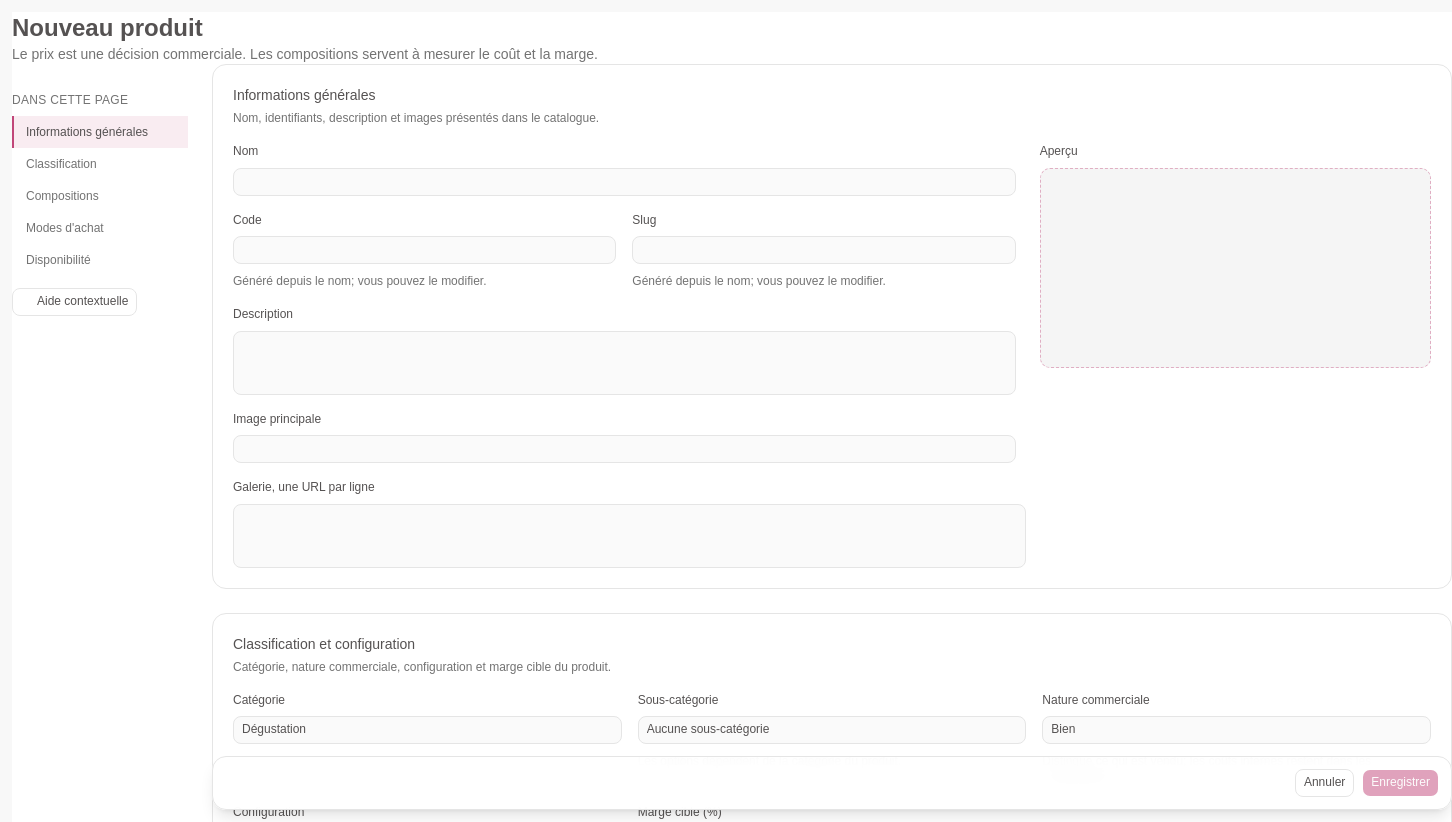
CatalogProductEditor › generates code and slug from the name until they are customized
Type "Pâté déjeuner & café" into the 1st field at (624, 182), box [233,168,1016,196]
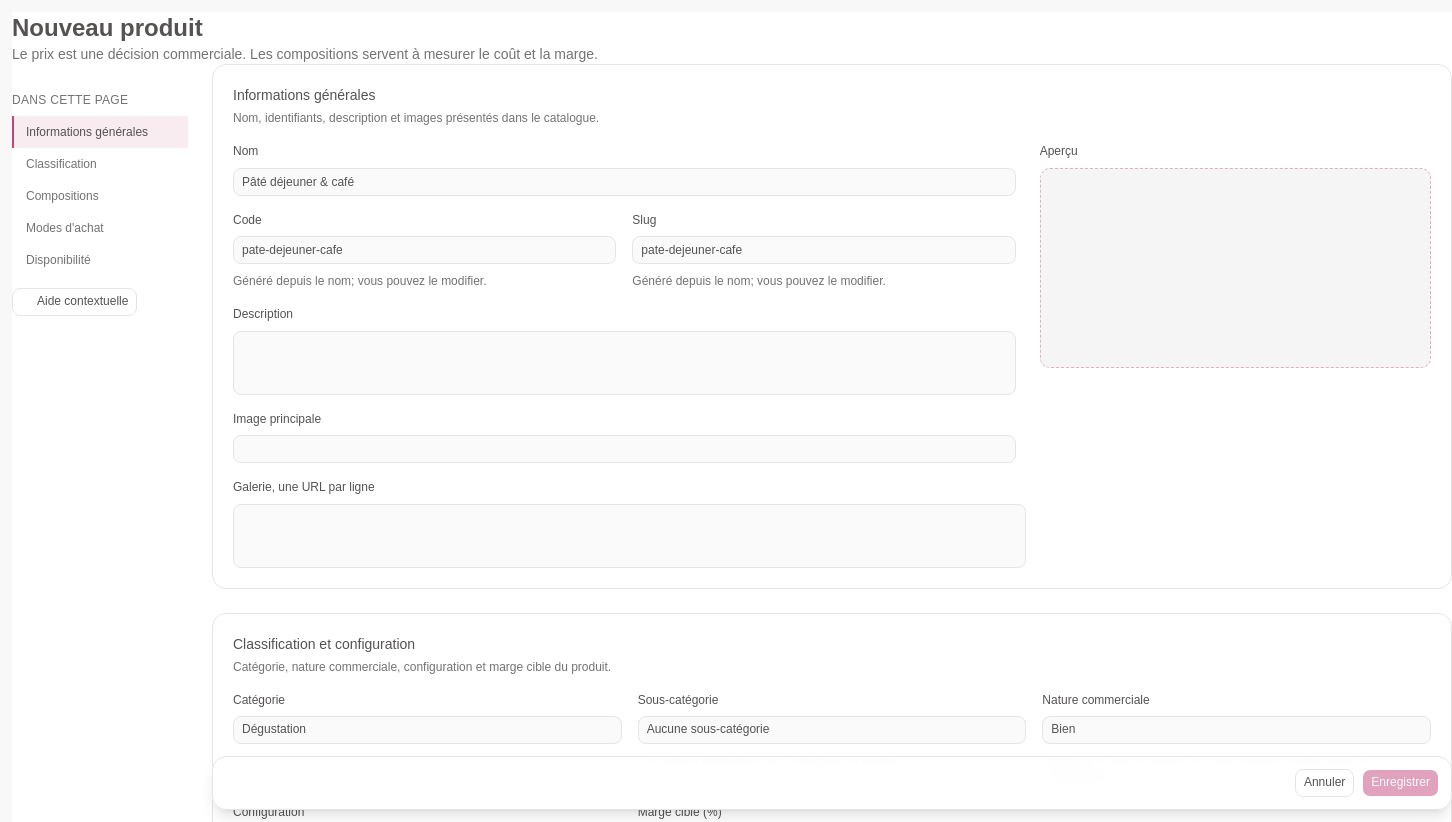
Expected: the 2nd field holds "pate-dejeuner-cafe"
Expected: the field below "Slug" holds "pate-dejeuner-cafe", [632,236,1016,264]
Replace the text in the 2nd field with "code-personnalise" at (425, 250), box [233,236,616,264]
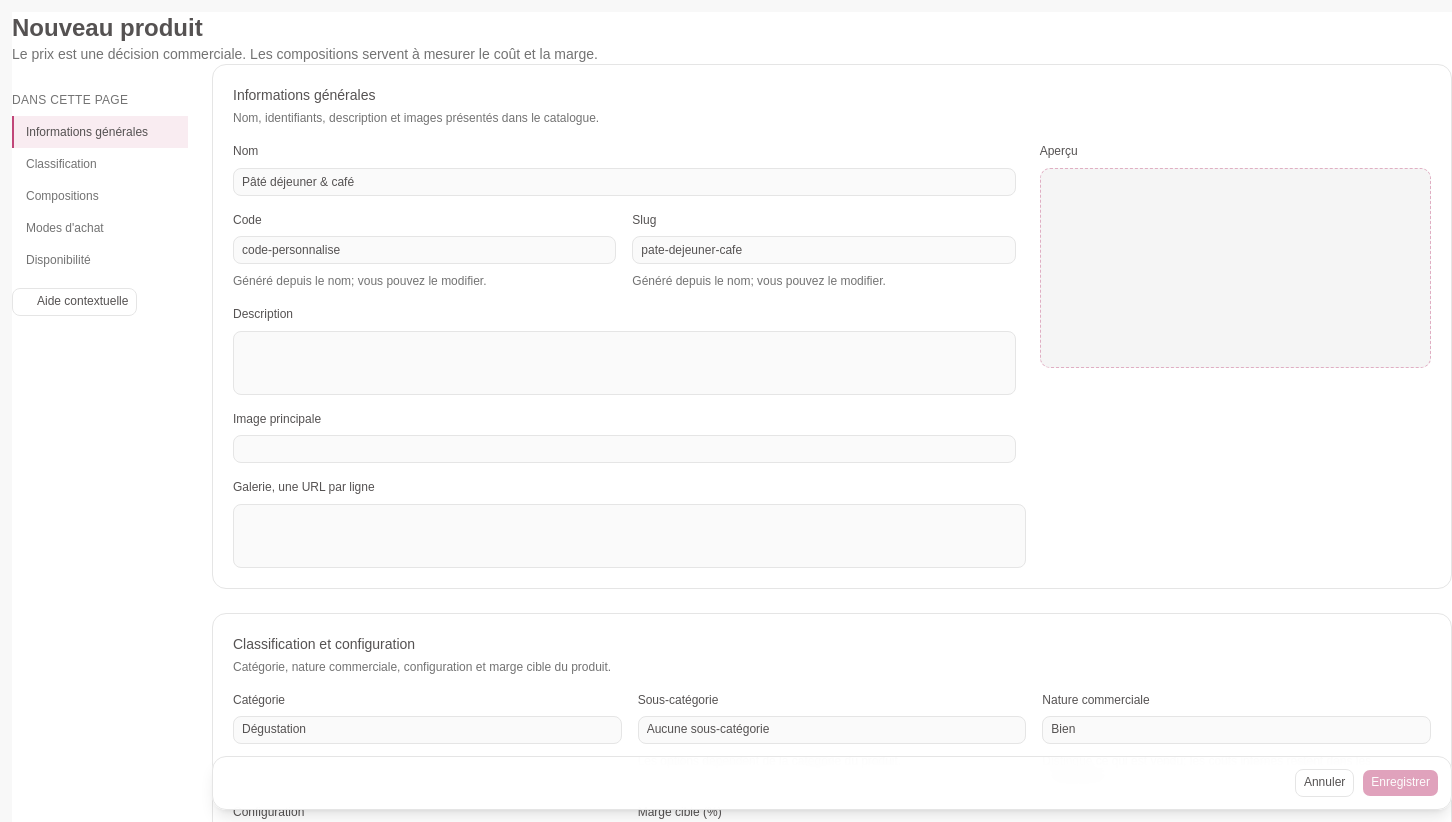
Replace the text in the 1st field with "Pâté déjeuner & café familial" at (624, 182), box [233,168,1016,196]
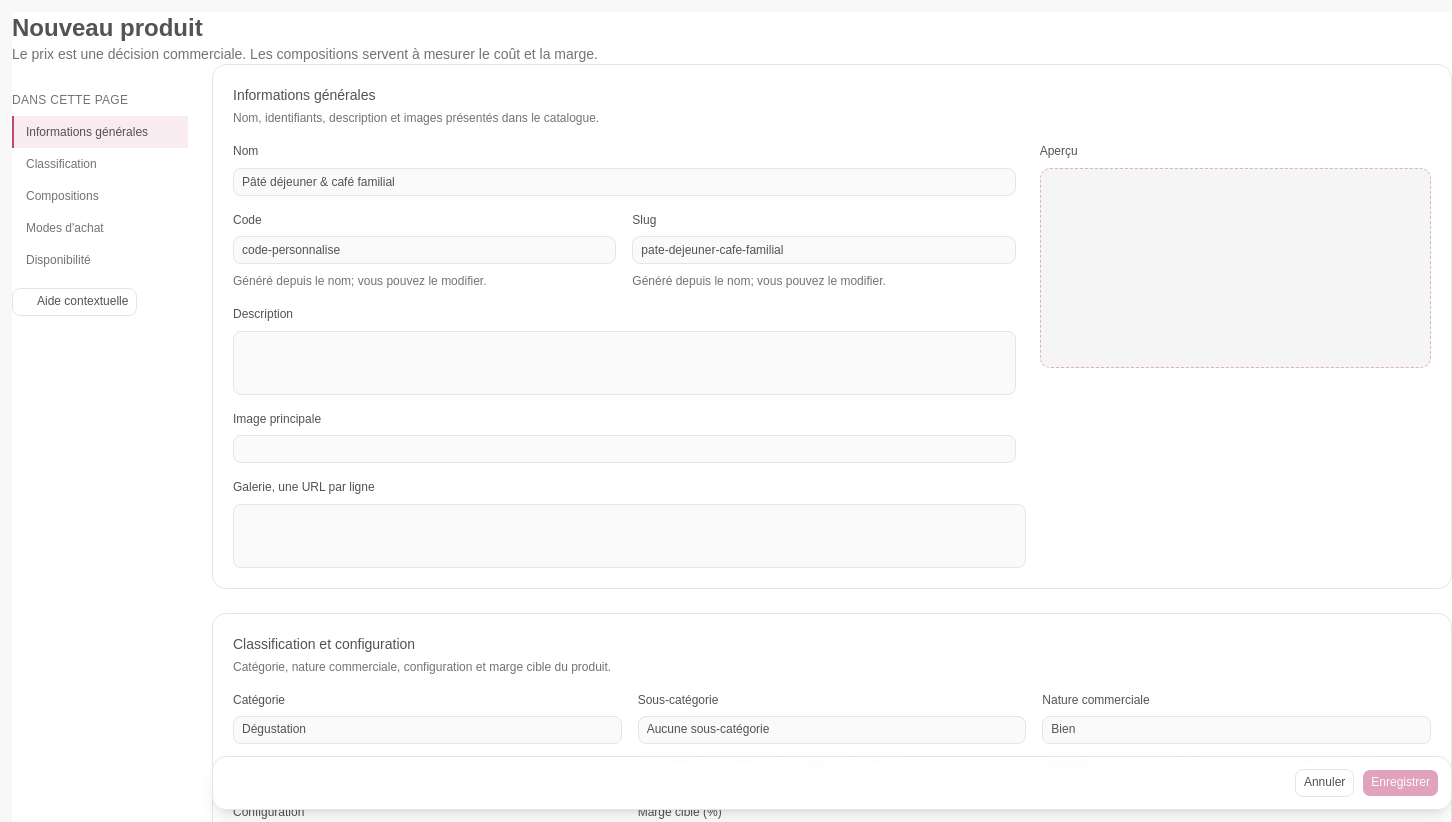
Expected: the field below "Slug" holds "pate-dejeuner-cafe-familial", [632,236,1016,264]
